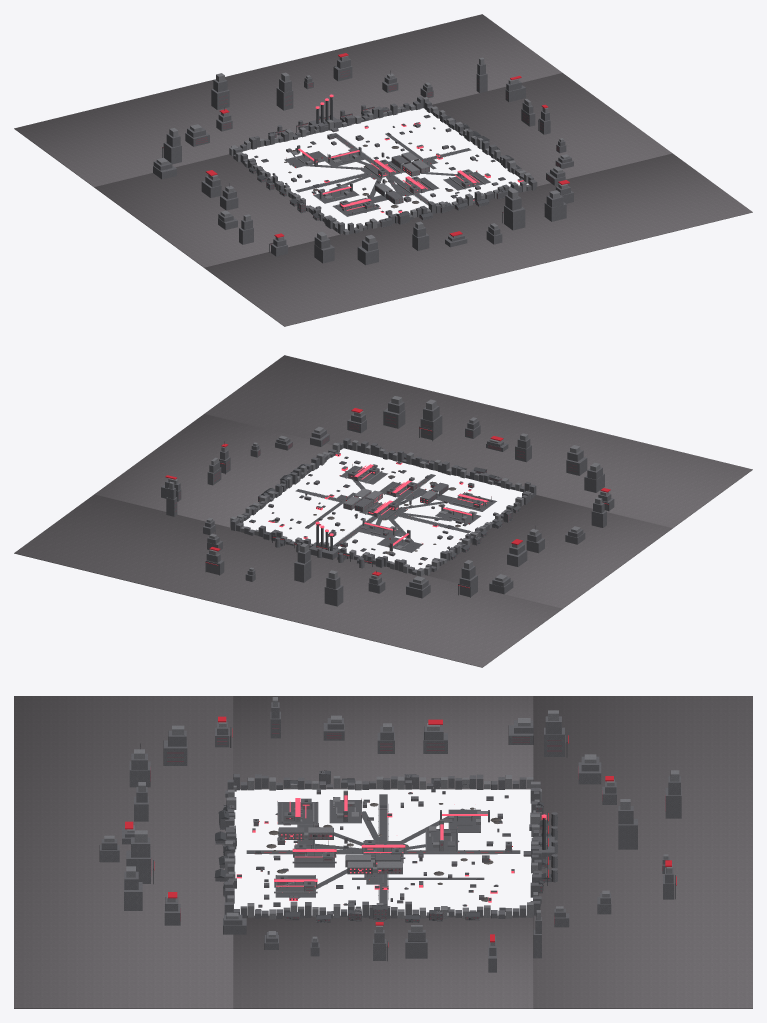
3 renders of one model, top to bottom at view 1: azimuth 30°, elevation 25°; view 2: azimuth 150°, elevation 25°; view 3: azimuth 270°, elevation 25°, orthographic. The views are drawn at different scales.
Visible parts, largest first — view 1: HB_z06_LOD0_terrain, HB_z06_LOD0_wall_alt, HB_z06_LOD0_wall, HB_z06_LOD0_road, HB_z06_LOD0_trim, HB_z06_LOD0_emissive, HB_z06_LOD0_obstacle; view 2: HB_z06_LOD0_terrain, HB_z06_LOD0_wall_alt, HB_z06_LOD0_wall, HB_z06_LOD0_road, HB_z06_LOD0_trim, HB_z06_LOD0_emissive, HB_z06_LOD0_obstacle; view 3: HB_z06_LOD0_terrain, HB_z06_LOD0_wall_alt, HB_z06_LOD0_wall, HB_z06_LOD0_road, HB_z06_LOD0_trim, HB_z06_LOD0_emissive, HB_z06_LOD0_obstacle, HB_z06_LOD0_glass, HB_z06_LOD0_accent.
Part boxes in pixels (x1,y1,x2,y2): HB_z06_LOD0_terrain: (14,14,752,326); HB_z06_LOD0_wall_alt: (153,58,573,265); HB_z06_LOD0_wall: (156,55,569,243); HB_z06_LOD0_road: (285,128,489,216); HB_z06_LOD0_trim: (162,66,555,252); HB_z06_LOD0_emissive: (298,94,523,212); HB_z06_LOD0_obstacle: (162,108,539,245); HB_z06_LOD0_terrain: (14,355,752,667); HB_z06_LOD0_wall_alt: (161,401,614,606); HB_z06_LOD0_wall: (168,396,608,583); HB_z06_LOD0_road: (273,466,496,552); HB_z06_LOD0_trim: (205,426,609,597); HB_z06_LOD0_emissive: (268,453,488,545); HB_z06_LOD0_obstacle: (206,427,608,587); HB_z06_LOD0_terrain: (14,696,752,1008); HB_z06_LOD0_wall_alt: (99,702,681,972); HB_z06_LOD0_wall: (104,697,679,945); HB_z06_LOD0_road: (246,794,520,906); HB_z06_LOD0_trim: (140,727,675,961); HB_z06_LOD0_emissive: (236,795,546,902); HB_z06_LOD0_obstacle: (152,728,565,947); HB_z06_LOD0_glass: (150,724,665,923); HB_z06_LOD0_accent: (125,716,676,947).
Bounding box in the file's own units: 708 × 50.77 × 708.
10 materials, 8 textured.
